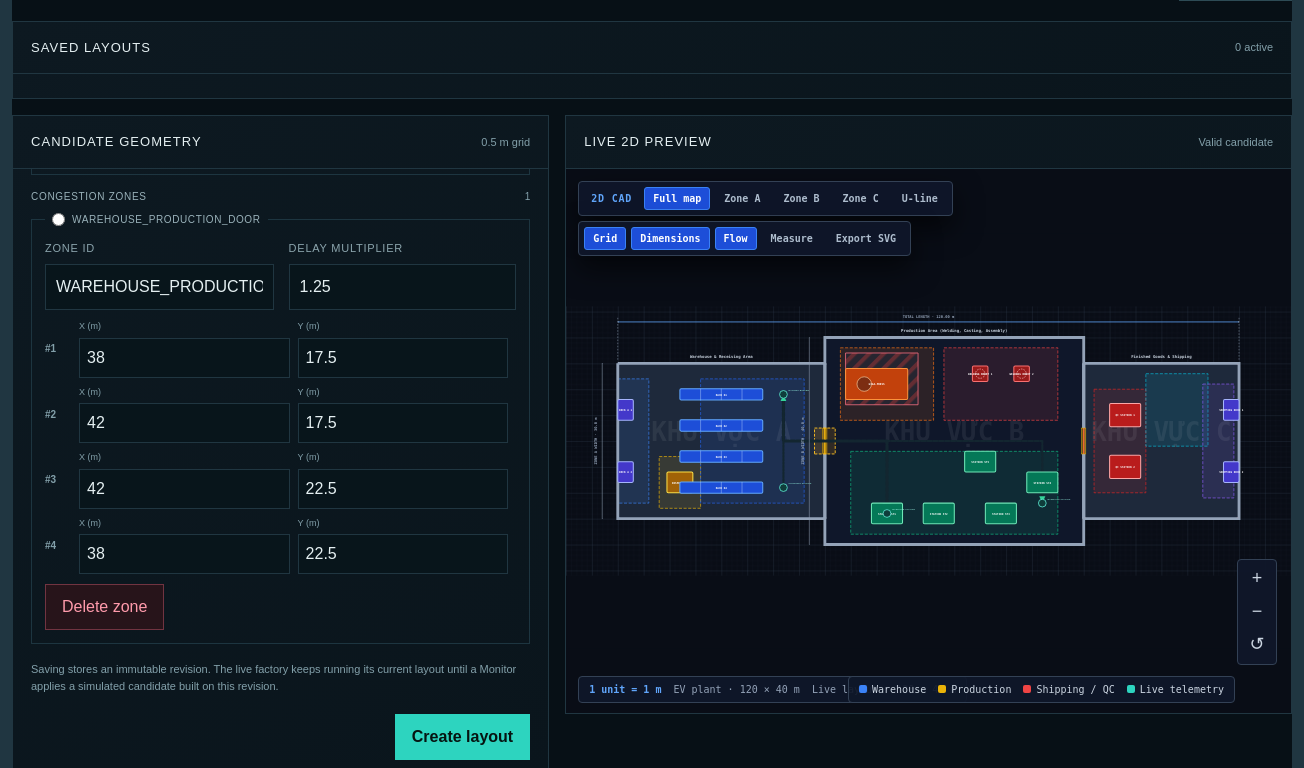
Test case: LayoutsPage › keeps the save error in context and raises an error toast
The image size is (1304, 768).
(page scrolled)
Click the button "Create layout" at x=462, y=737, box [395,714,530,760]
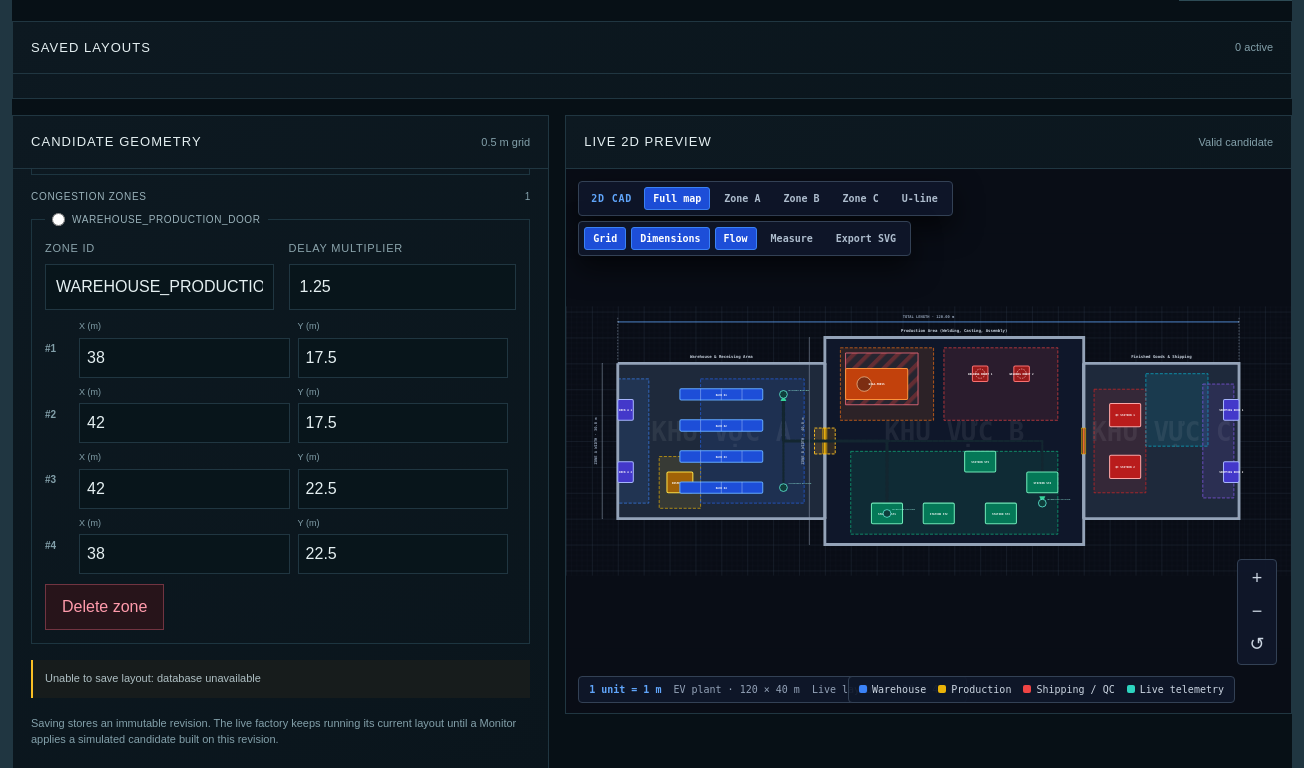
Check: the text "Unable to save layout: database unavailable" is shown, box [31,660,530,698]
